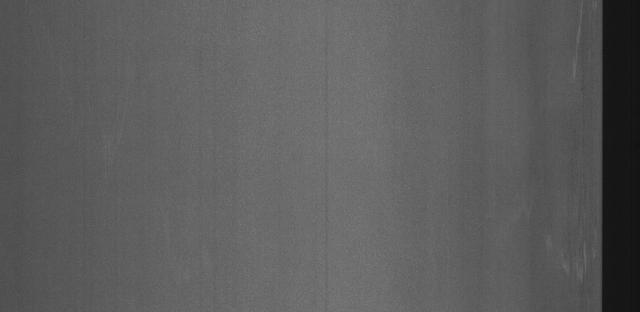silk_spot: (554, 207, 594, 303), (566, 8, 599, 93)
